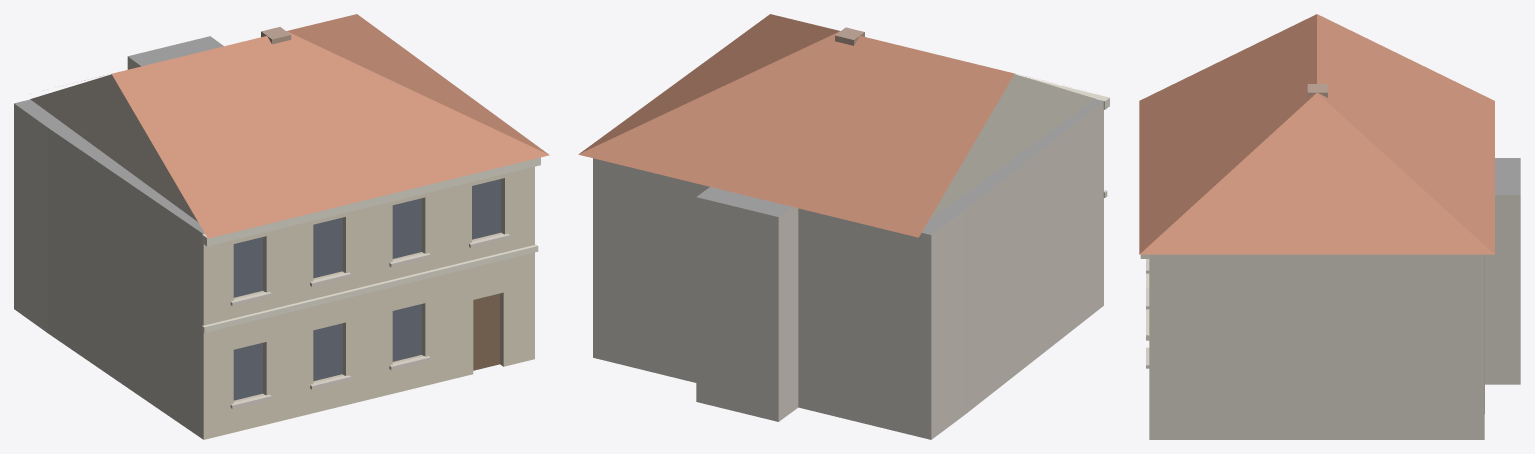
3 views of the same model, side by side, from view 1: azimuth 30°, elevation 25°; view 2: azimuth 150°, elevation 25°; view 3: azimuth 270°, elevation 25° (orthographic). The views are drawn at different scales.
Parts seen in each view (by area): view 1: CP_879_Masonry, CP_879_Roof, CP_879_Roof_Gable_L_gable, CP_879_Cornice_main_eave_0, CP_879_Cornice_main_string_0; view 2: CP_879_Masonry, CP_879_Roof, CP_879_Roof_Gable_L_gable; view 3: CP_879_Roof, CP_879_Masonry.
Boxes of the visible parts, x1,y1,x2,y2 form: CP_879_Masonry: (14, 36, 534, 439); CP_879_Roof: (84, 14, 549, 238); CP_879_Roof_Gable_L_gable: (30, 74, 197, 221); CP_879_Cornice_main_eave_0: (202, 157, 540, 246); CP_879_Cornice_main_string_0: (202, 244, 538, 332); CP_879_Masonry: (593, 99, 1103, 439); CP_879_Roof: (578, 14, 1044, 237); CP_879_Roof_Gable_L_gable: (929, 74, 1095, 220); CP_879_Roof: (1139, 14, 1494, 254); CP_879_Masonry: (1149, 158, 1520, 439).
Size of the model in its own units: 12.78 by 10.5 by 13.13.
